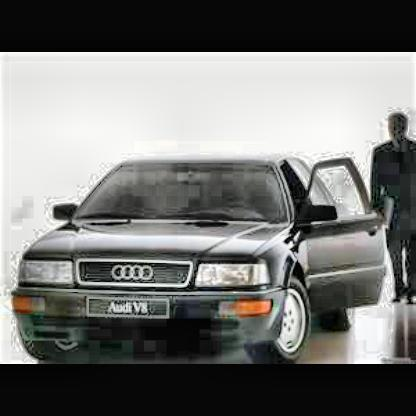Audi V8 Sedan 1994: (8, 154, 389, 359)
